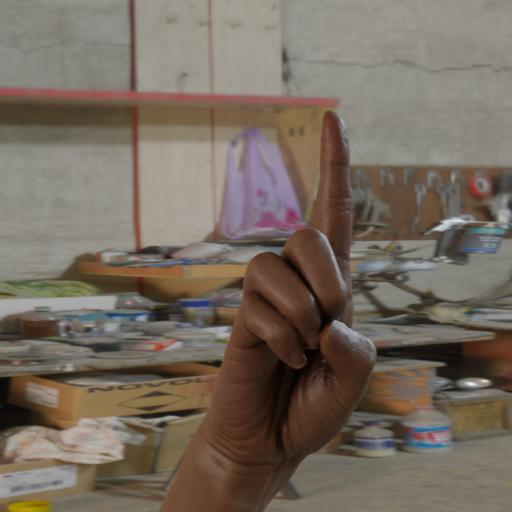D: (197, 97, 381, 478)
